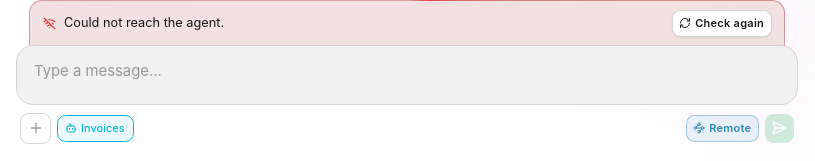
Test case: composer readiness refusal › a catalog /run: always runs › enables Send for it, and the notice stays
Type "/run:check" into the dropdown at (407, 71), box x1=17 y1=46 x2=797 y2=96
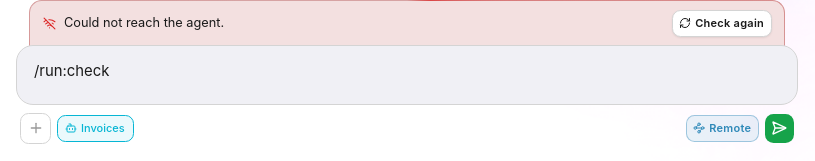
Expected: the text "Could not reach the agent." is shown, x1=64 y1=15 x2=224 y2=30
Expected: the button named "Send" is enabled, x1=765 y1=114 x2=794 y2=143
